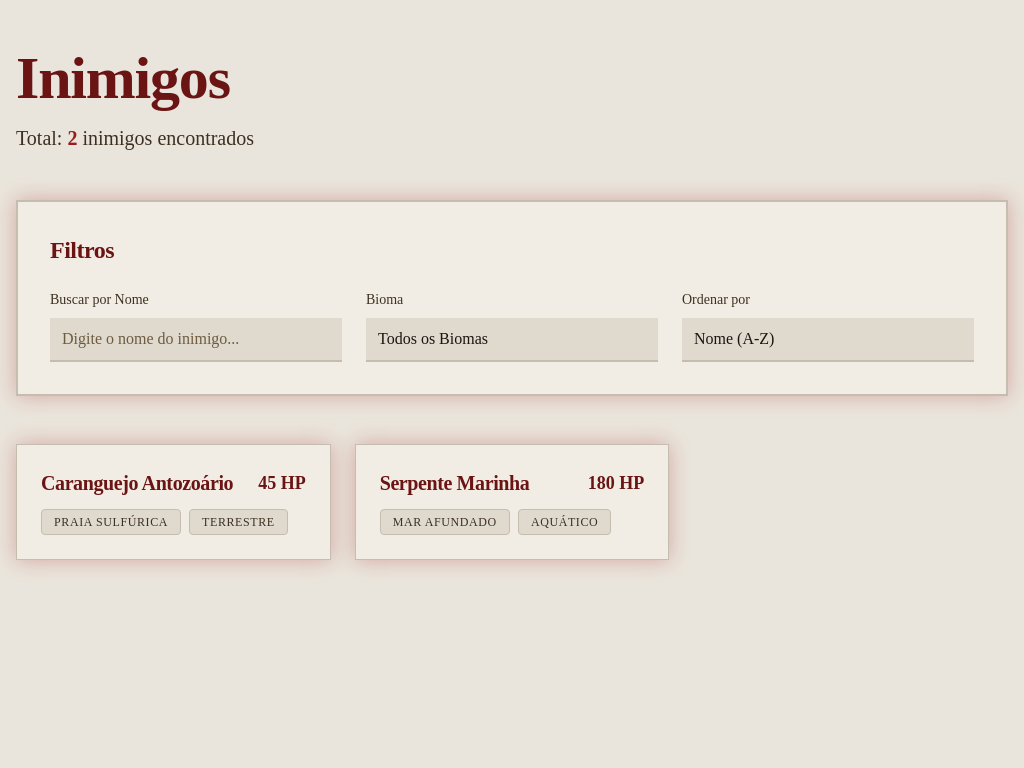
Test: EnemiesPage › filters the list by biome
The image size is (1024, 768).
Expected: the heading "Caranguejo Antozoário" is shown, [41,469,233,497]
Note: O primeiro combobox é o filtro de Bioma.
Select "Mar Afundado" in the dropdown below "Bioma": (512, 340) [366,318,658,362]
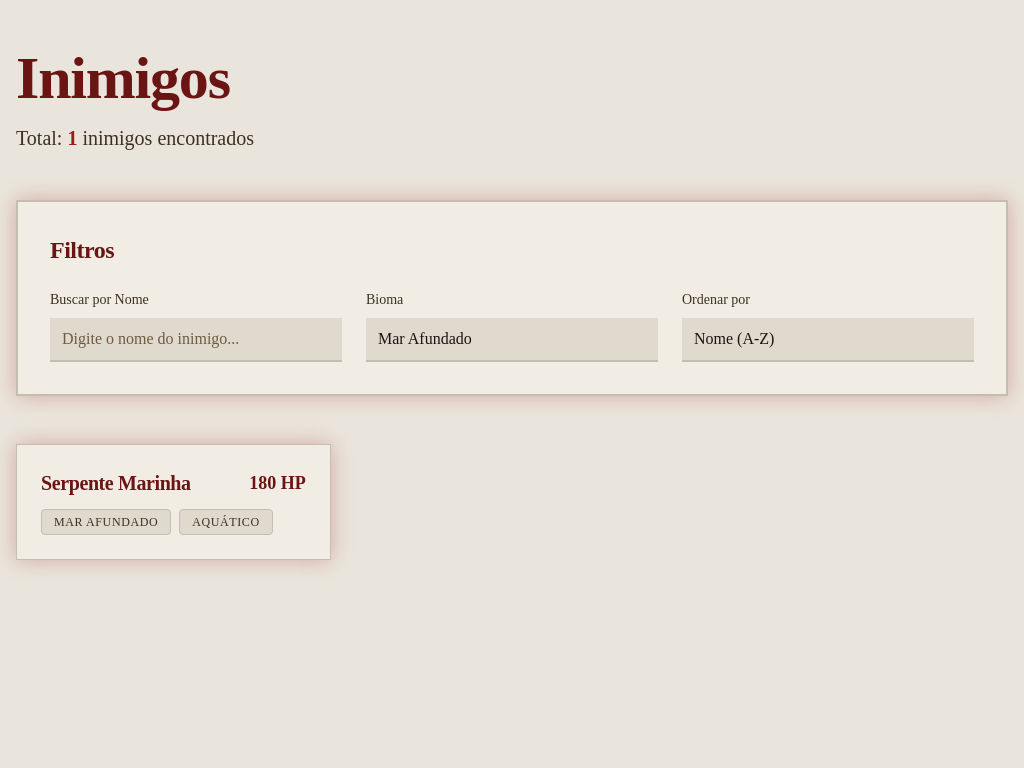
Expected: the heading "Serpente Marinha" is shown, [41,469,191,497]
Now the button "Caranguejo Antozoário" is gone
